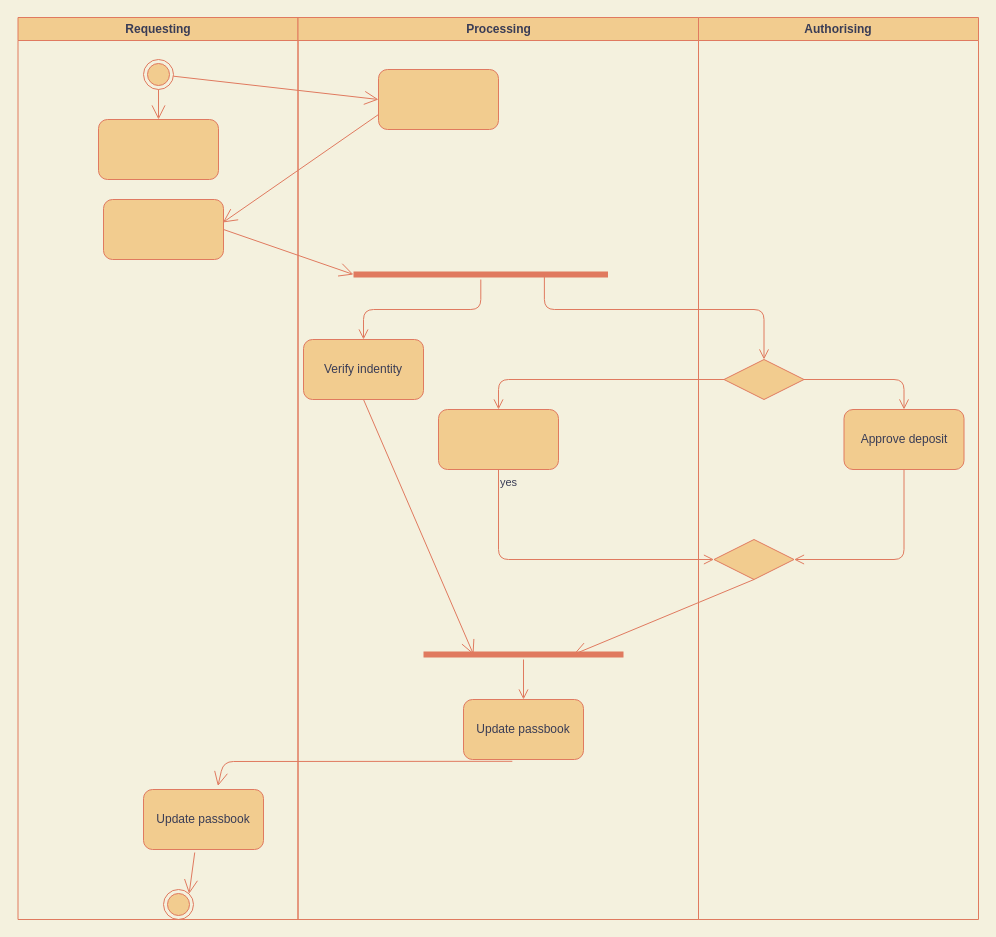
Some shapes in this 996 by 937 pixel diagram are drawn without their labels. Here are the shapes that lost their labels. From the top down, the centre of each, then its label:
the point at 438,99: Create deposit slip
the point at 158,149: Request deposit slip
the point at 163,229: Fill out and submit deposit slip & pass book
the point at 498,439: Make depos as unapproved
